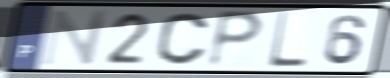2: (107, 11, 153, 66)
6: (324, 13, 367, 67)
C: (153, 11, 212, 67)
L: (265, 9, 309, 70)
N: (40, 9, 111, 68)
P: (204, 8, 267, 71)
